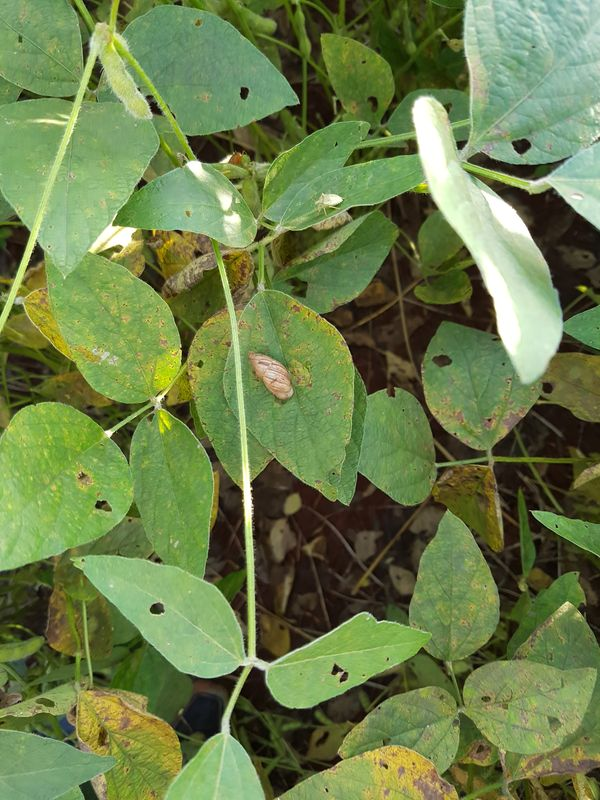Euschistus_heros_ninfa: (305, 185, 354, 224)
Gastropoda: (236, 340, 309, 412)
